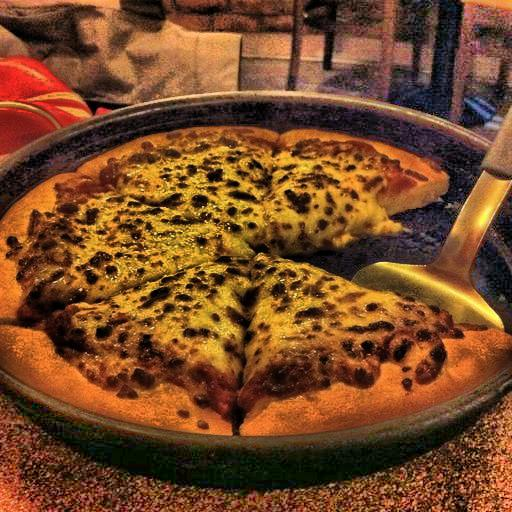pizza: (25, 103, 512, 470)
